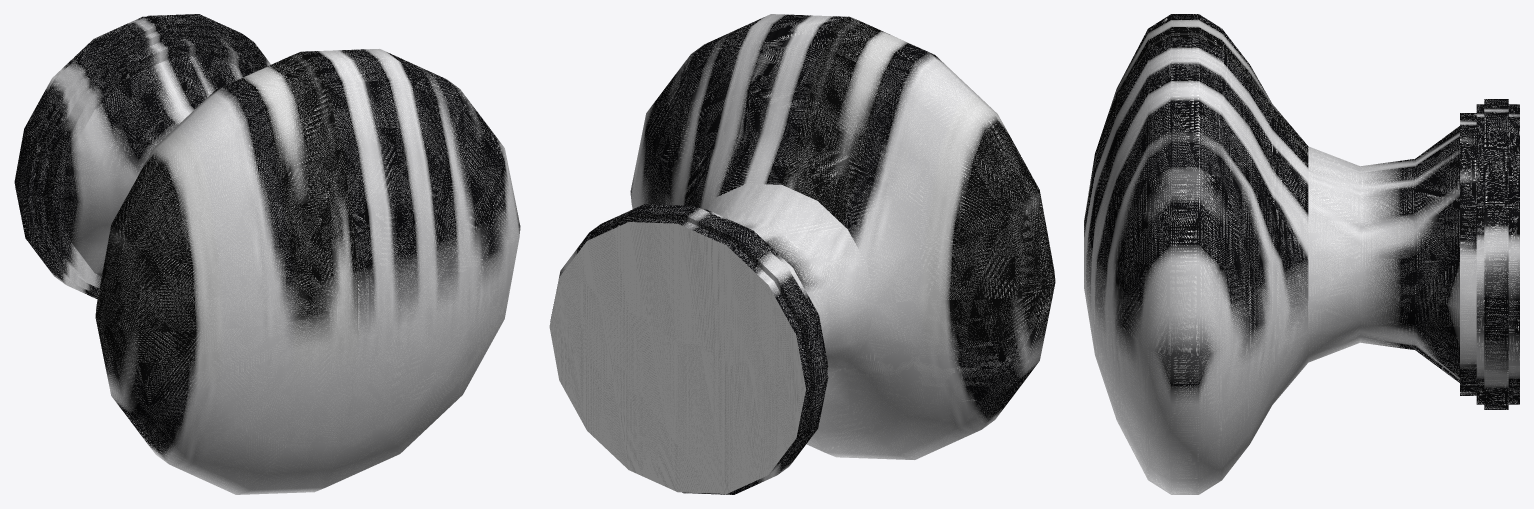
File: original-30.obj
The picture shows the model from 3 angles, left to right: view 1: azimuth 30°, elevation 25°; view 2: azimuth 150°, elevation 25°; view 3: azimuth 270°, elevation 25°; orthographic projection.
Parts seen in each view (by area): view 1: HP117_LT1/HP117_LT/mesh24/mesh24-geometry#mesh24-geometry; view 2: HP117_LT1/HP117_LT/mesh24/mesh24-geometry#mesh24-geometry; view 3: HP117_LT1/HP117_LT/mesh24/mesh24-geometry#mesh24-geometry.
Boxes of the visible parts, x1,y1,x2,y2 form: HP117_LT1/HP117_LT/mesh24/mesh24-geometry#mesh24-geometry: (14, 14, 520, 494); HP117_LT1/HP117_LT/mesh24/mesh24-geometry#mesh24-geometry: (549, 14, 1055, 494); HP117_LT1/HP117_LT/mesh24/mesh24-geometry#mesh24-geometry: (1084, 14, 1519, 494).
Bounding box in the file's own units: 0.0579 × 0.0579 × 0.0524.
